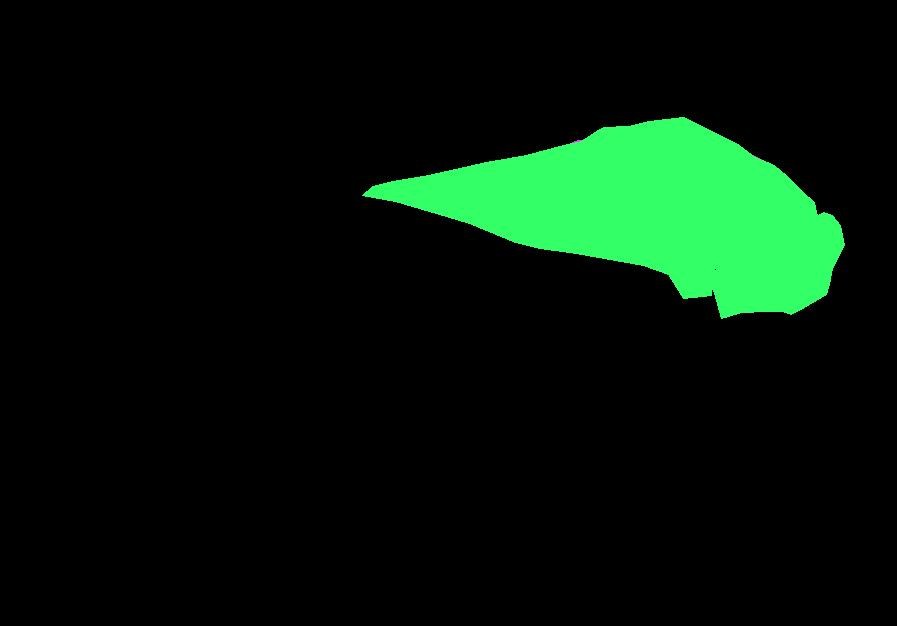Broken part: (362, 117, 817, 298), (709, 212, 844, 318)
Dent: (564, 118, 788, 179)
